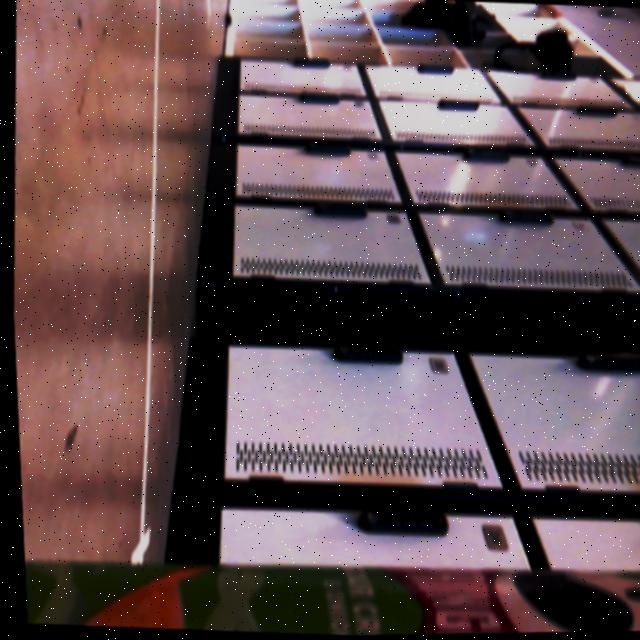greenpringles: (19, 523, 640, 640)
